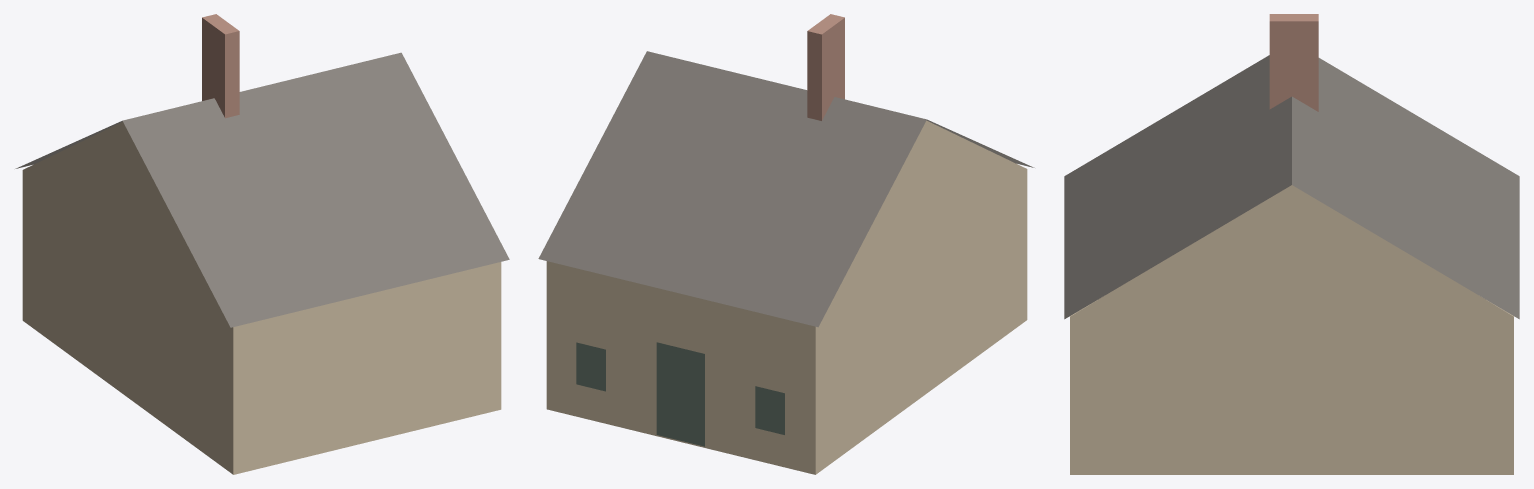
Rendered from recon_1835_north_d6_058__recommended_1835.glb.
The picture shows the model from 3 angles, left to right: view 1: azimuth 30°, elevation 25°; view 2: azimuth 150°, elevation 25°; view 3: azimuth 270°, elevation 25°; orthographic projection. The views are drawn at different scales.
Visible parts, largest first — view 1: recon_1835_north_d6_058__recommended_1835; view 2: recon_1835_north_d6_058__recommended_1835; view 3: recon_1835_north_d6_058__recommended_1835.
Boxes of the visible parts, x1,y1,x2,y2 form: recon_1835_north_d6_058__recommended_1835: [15, 14, 509, 474]; recon_1835_north_d6_058__recommended_1835: [538, 14, 1034, 474]; recon_1835_north_d6_058__recommended_1835: [1064, 14, 1519, 474].
Size of the model in its own units: 6.99 by 8.37 by 9.38.
